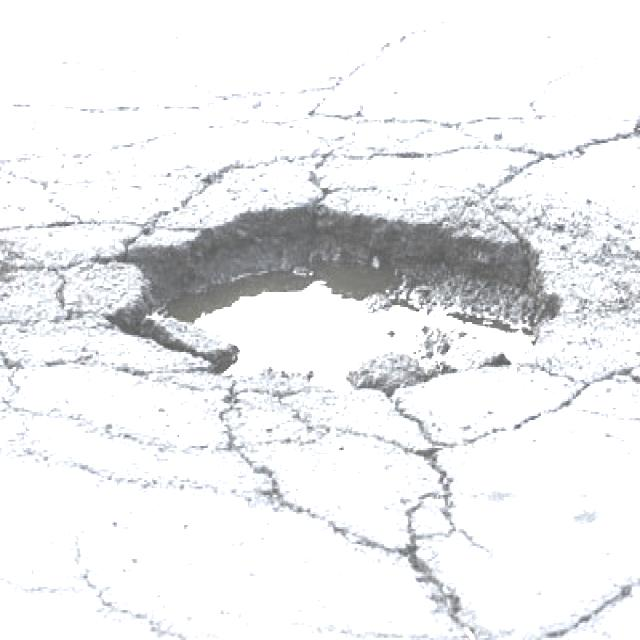Pothole: (56, 164, 577, 436)
